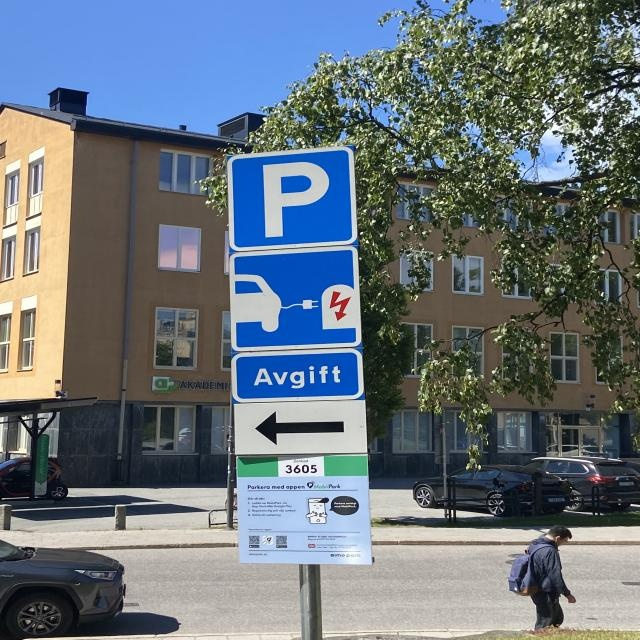P-skylt: (228, 143, 354, 251)
